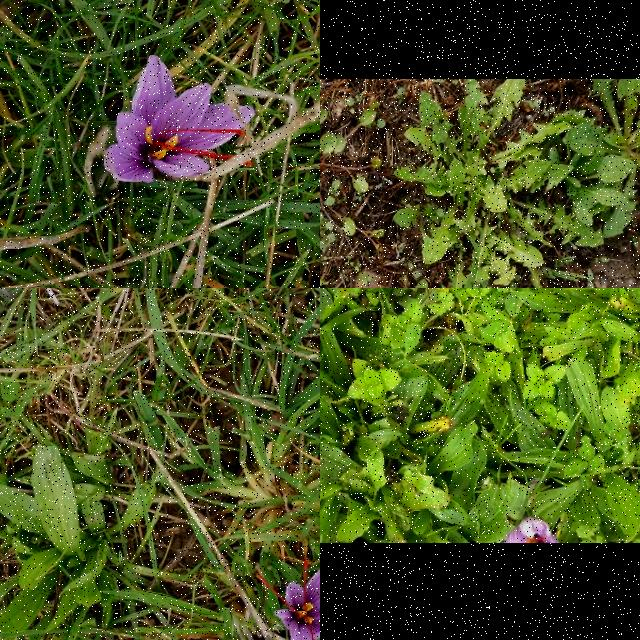flower: (104, 54, 256, 184), (256, 559, 320, 640), (506, 515, 560, 543)
